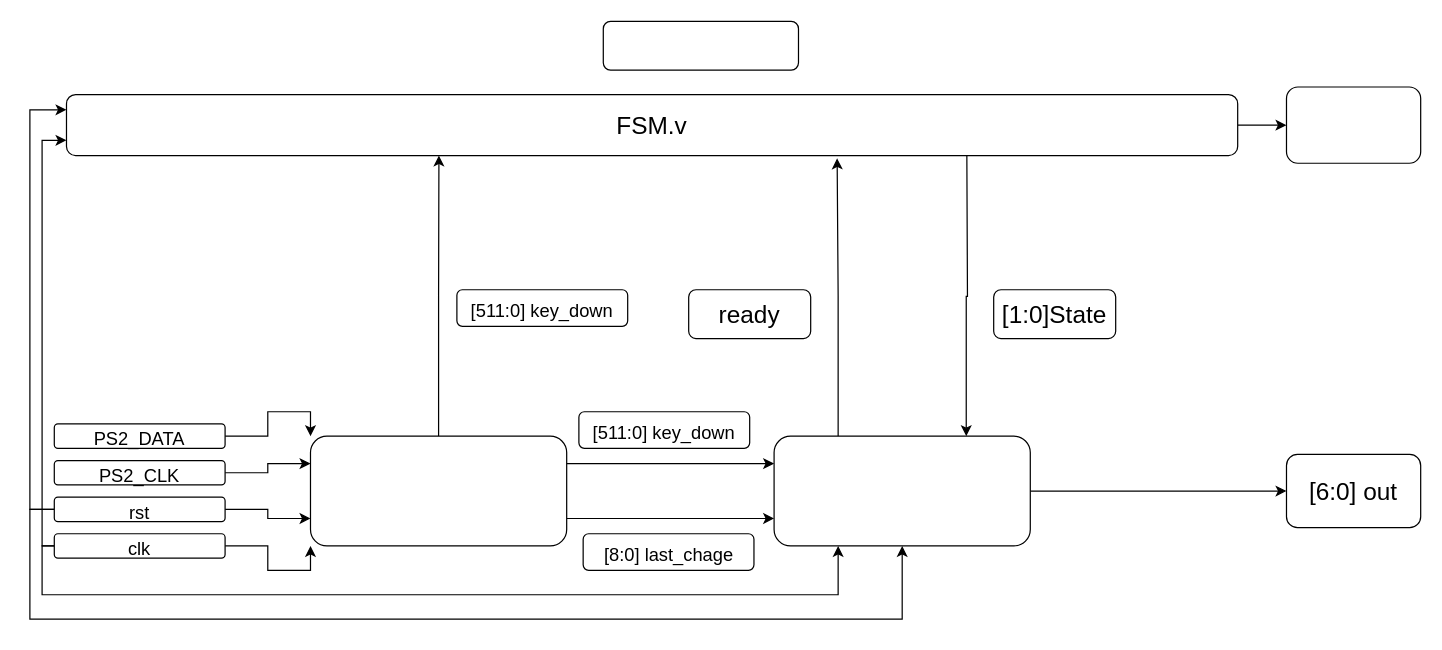
Image size: 1442x650. Some labels were removed from this diagram. The centre of each missing label's shape, as x and y in pixels:
"[1:0] state_led" belongs at [1353,124].
"Keyboard" belongs at [700,45].
"Keyboard_Decorder.v" belongs at [438,490].
"Keyboard_Eecorder.v" belongs at [901,490].
